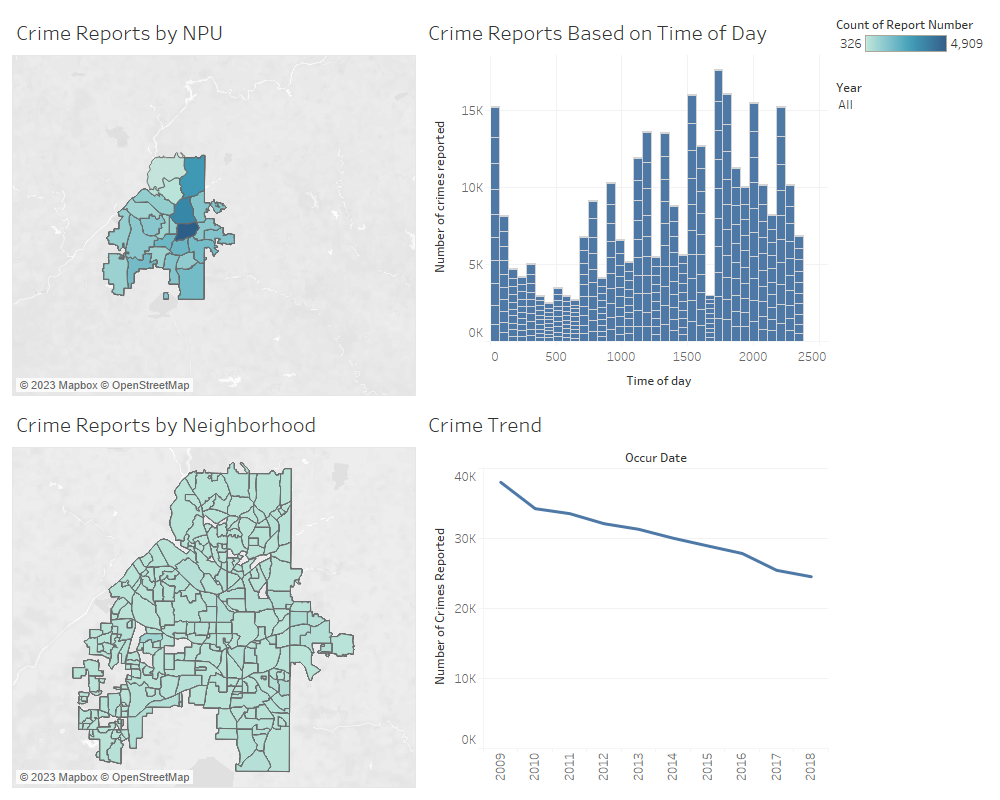

The page's visual inventory and layout, read from the dashboard file:
{"tool":"tableau","page":{"name":"Dashboard 1","canvas":[1000,800],"ordinal":0},"visuals":[{"type":"worksheet","title":"Crime Reports by NPU","mark":"Automatic","box":[8,8,412,392]},{"type":"worksheet","title":"Crime Reports Based on Time of Day","mark":"Automatic","rows":["Occur Time"],"cols":["Occur Time (bin)"],"box":[420,8,412,392]},{"type":"legend","title":"Crime Reports by NPU","param":"[federated.0hp6jeo1658rzw118nyuk0pgq6uf].[cnt:Report Number:qk]","box":[832,8,160,65]},{"type":"filter","title":"Crime Reports by NPU","param":"[federated.0hp6jeo1658rzw118nyuk0pgq6uf].[yr:Occur Date:ok]","box":[832,73,160,75]},{"type":"worksheet","title":"Crime Reports by Neighborhood","mark":"Automatic","box":[8,400,412,392]},{"type":"worksheet","title":"Crime Trend","mark":"Automatic","rows":["Report Number"],"cols":["Occur Date"],"box":[420,400,412,392]}]}

Visuals, with their boxes in screenshot pixels (x1, y1, x2, y2), scaled from the page's 1000x800 canvas onto the 1000x800 screenshot:
"Crime Reports by NPU" worksheet: crop(8, 8, 420, 400)
"Crime Reports Based on Time of Day" worksheet: crop(420, 8, 832, 400)
"Crime Reports by NPU" legend: crop(832, 8, 992, 73)
"Crime Reports by NPU" filter: crop(832, 73, 992, 148)
"Crime Reports by Neighborhood" worksheet: crop(8, 400, 420, 792)
"Crime Trend" worksheet: crop(420, 400, 832, 792)
